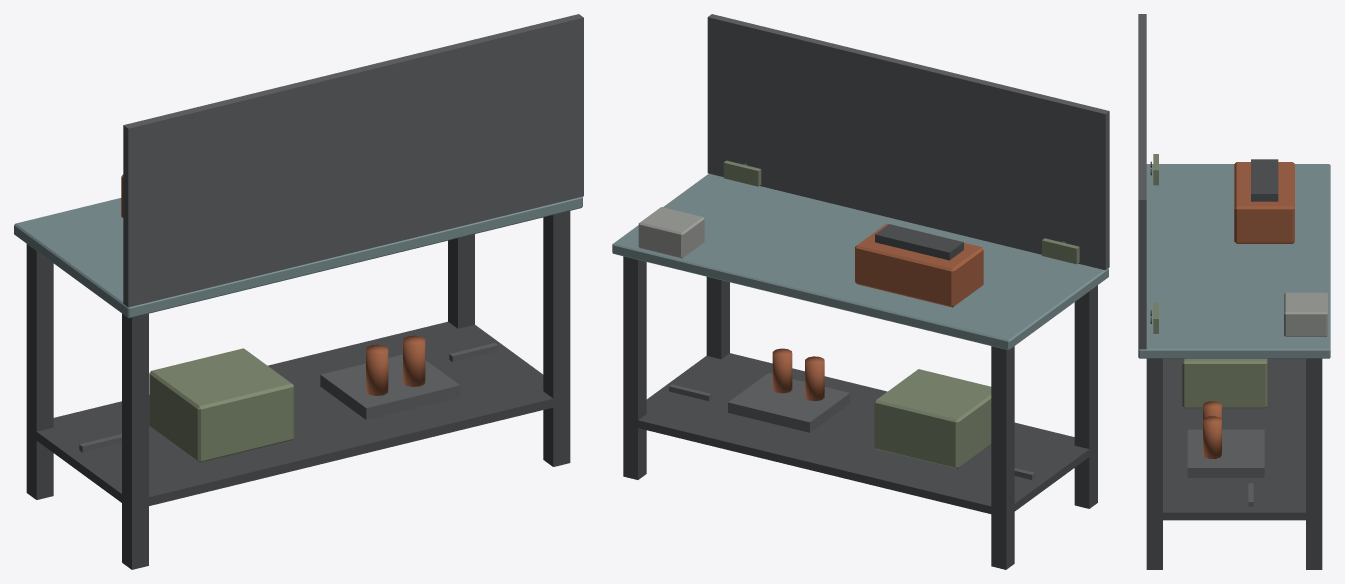
File: workbench.glb
3 renders of one model, left to right at view 1: azimuth 30°, elevation 25°; view 2: azimuth 150°, elevation 25°; view 3: azimuth 270°, elevation 25°, orthographic. The views are drawn at different scales.
Visible parts, largest first — view 1: workbench; view 2: workbench; view 3: workbench.
Part boxes in pixels (bbox=[...]): workbench: bbox=[14, 14, 583, 569]; workbench: bbox=[612, 14, 1109, 569]; workbench: bbox=[1138, 14, 1330, 569].
Size of the model in its own units: 1.6 by 1.5 by 0.7.
